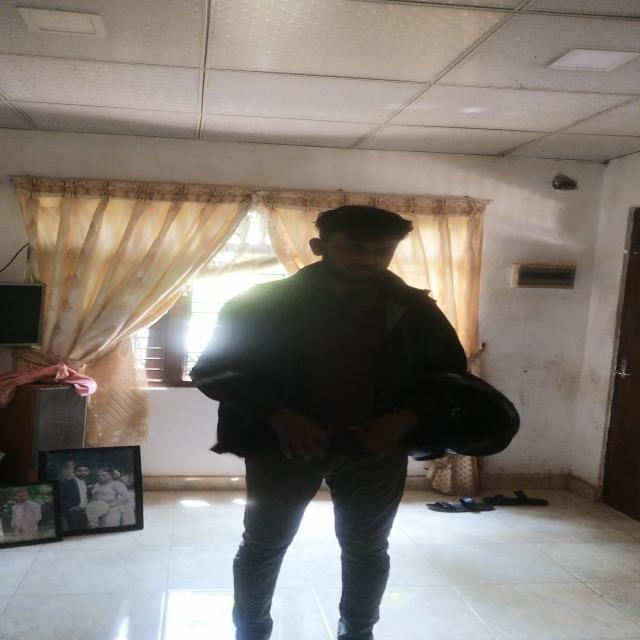Jacket_Wearer: (206, 272, 459, 480)
Person: (199, 199, 468, 640)
